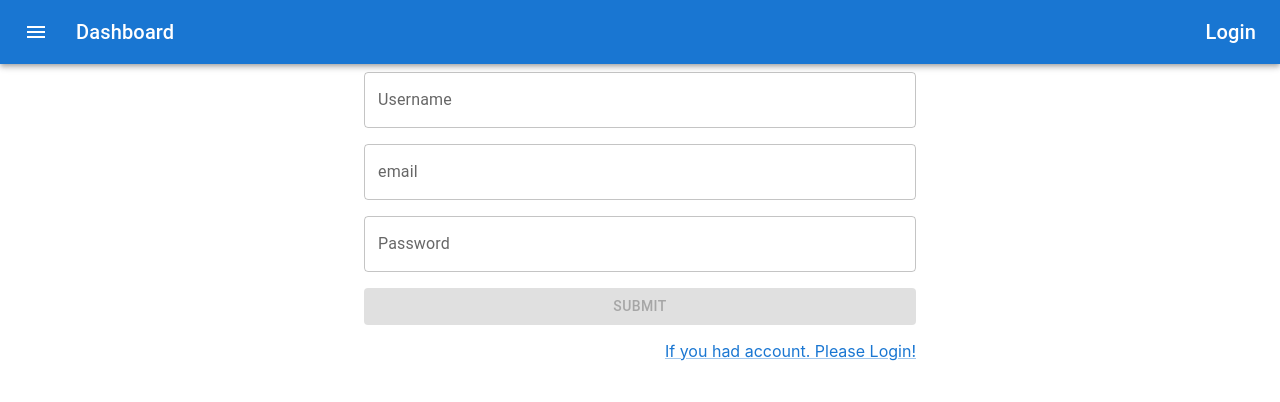
Register spec › Error Password is proper
The width and height of the screenshot is (1280, 402).
Type "admin" into the password field labelled "Password".
click(640, 244); type("admin")  # box [364,216,916,272]
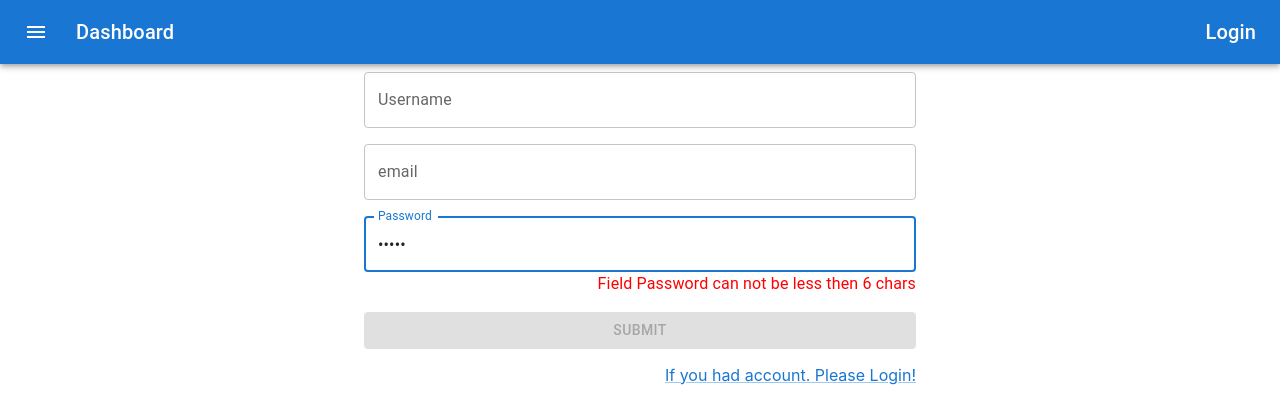
Check: the text "Field Password can not be less then 6 chars" is shown, box [598,274,916,293]
